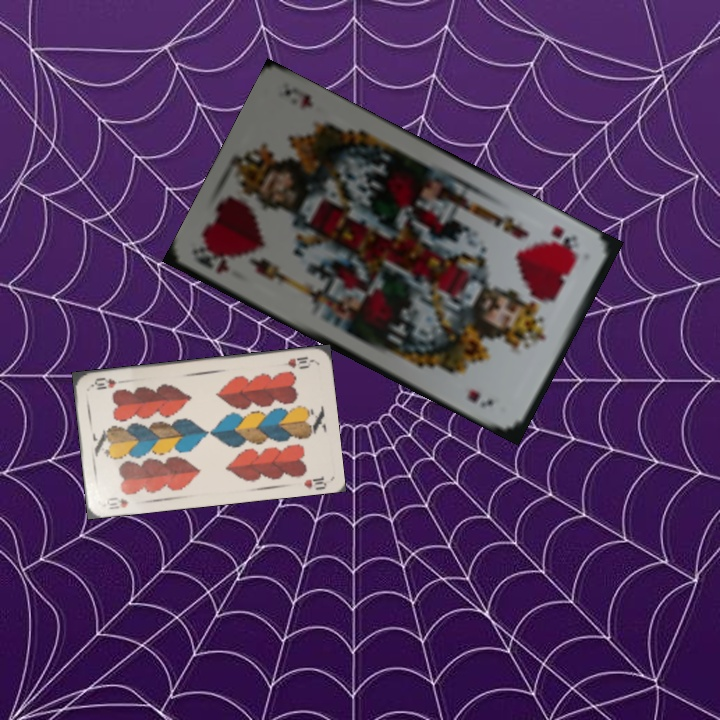H10: (276, 352, 316, 370), (102, 493, 131, 512)
HK: (547, 222, 583, 258), (192, 251, 233, 277)
